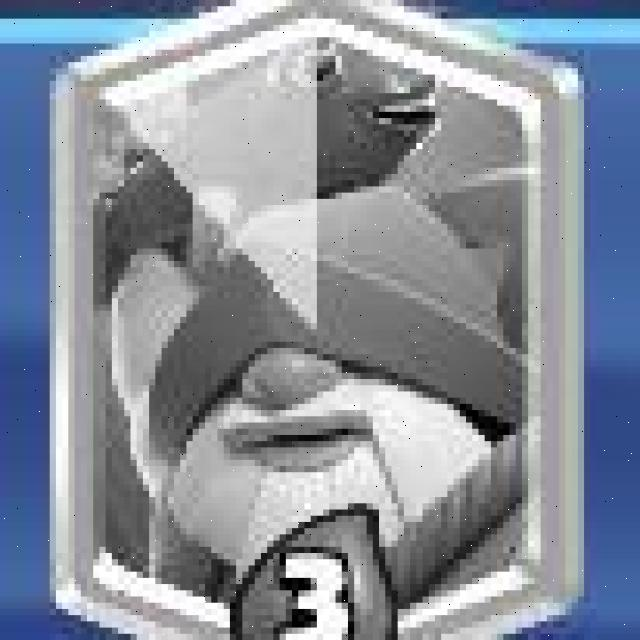Fisherman: (54, 3, 580, 640)
